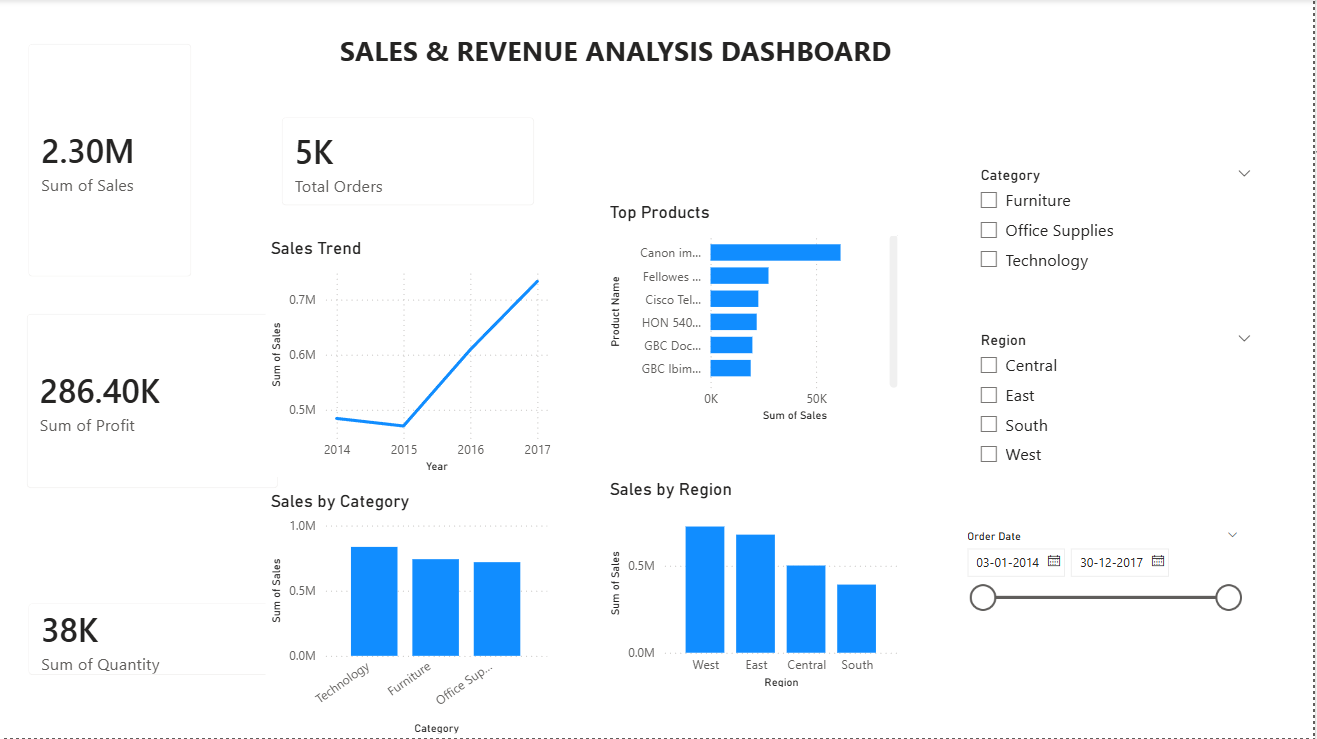

Layout of this report page (visuals, bound fields, positions):
{"tool":"powerbi","page":{"name":"Page 1","canvas":[1280,720],"ordinal":0},"visuals":[{"type":"cardVisual","fields":{"Data":["Sum(Orders.Sales)"]},"box":[9.5,27,193.7,261.9],"z":0},{"type":"cardVisual","fields":{"Data":["Sum(Orders.Profit)"]},"box":[9.4,289.1,279.7,204.1],"z":1000},{"type":"cardVisual","fields":{"Data":["Sum(Orders.Quantity)"]},"box":[9.5,571.4,279.4,104.8],"z":2000},{"type":"cardVisual","fields":{"Data":["Orders.Total Orders"]},"box":[257.1,98.4,281,120.6],"z":3000},{"type":"lineChart","title":"Sales Trend","fields":{"Category":["Orders.Order Date.Variation.Date Hierarchy.Year","Orders.Order Date.Variation.Date Hierarchy.Quarter","Orders.Order Date.Variation.Date Hierarchy.Month","Orders.Order Date.Variation.Date Hierarchy.Day"],"Y":["Sum(Orders.Sales)"]},"box":[258.7,231.7,282.5,233.3],"z":4000},{"type":"clusteredColumnChart","title":"Sales by Category","fields":{"Category":["Orders.Category"],"Y":["Sum(Orders.Sales)"]},"box":[258.7,479.4,279.4,241.3],"z":5000},{"type":"clusteredBarChart","title":"Top Products","fields":{"Category":["Orders.Product Name"],"Y":["Sum(Orders.Sales)"]},"box":[588.9,196.8,290.5,219],"z":6000},{"type":"clusteredColumnChart","title":"Sales by Region","fields":{"Category":["Orders.Region"],"Y":["Sum(Orders.Sales)"]},"box":[588.9,468.3,290.5,207.9],"z":7000},{"type":"slicer","fields":{"Values":["Orders.Category"]},"box":[942.9,157.1,288.9,149.2],"z":8000},{"type":"slicer","fields":{"Values":["Orders.Order Date"]},"box":[930.2,511.1,288.9,125.4],"z":9000},{"type":"slicer","fields":{"Values":["Orders.Region"]},"box":[942.9,319,288.9,174.6],"z":10000},{"type":"textbox","box":[325.4,27,554,54],"z":16001}]}

Visuals, with their boxes in screenshot pixels (x1, y1, x2, y2), scaled from the page's 1280x720 canvas onto the 1317x739 screenshot:
cardVisual - Sum(Orders.Sales): left=10, top=28, right=209, bottom=297
cardVisual - Sum(Orders.Profit): left=10, top=297, right=297, bottom=506
cardVisual - Sum(Orders.Quantity): left=10, top=586, right=297, bottom=694
cardVisual - Orders.Total Orders: left=265, top=101, right=554, bottom=225
"Sales Trend" lineChart: left=266, top=238, right=557, bottom=477
"Sales by Category" clusteredColumnChart: left=266, top=492, right=554, bottom=738
"Top Products" clusteredBarChart: left=606, top=202, right=905, bottom=427
"Sales by Region" clusteredColumnChart: left=606, top=481, right=905, bottom=694
slicer - Orders.Category: left=970, top=161, right=1267, bottom=314
slicer - Orders.Order Date: left=957, top=525, right=1254, bottom=653
slicer - Orders.Region: left=970, top=327, right=1267, bottom=507
textbox: left=335, top=28, right=905, bottom=83
